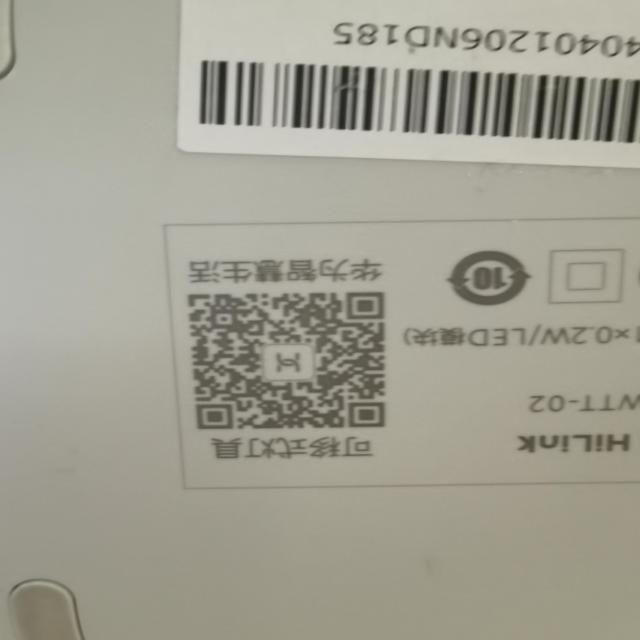qr_code: (187, 290, 385, 430)
